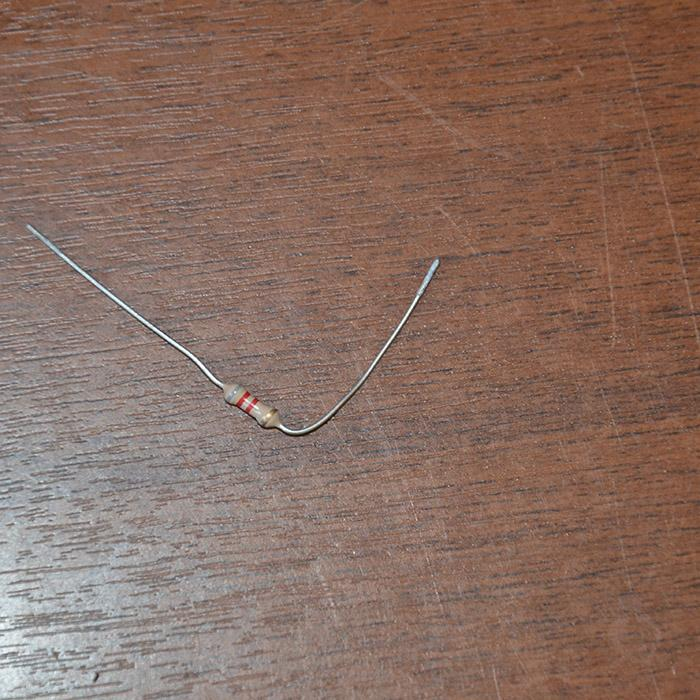resistor: (222, 381, 280, 429)
